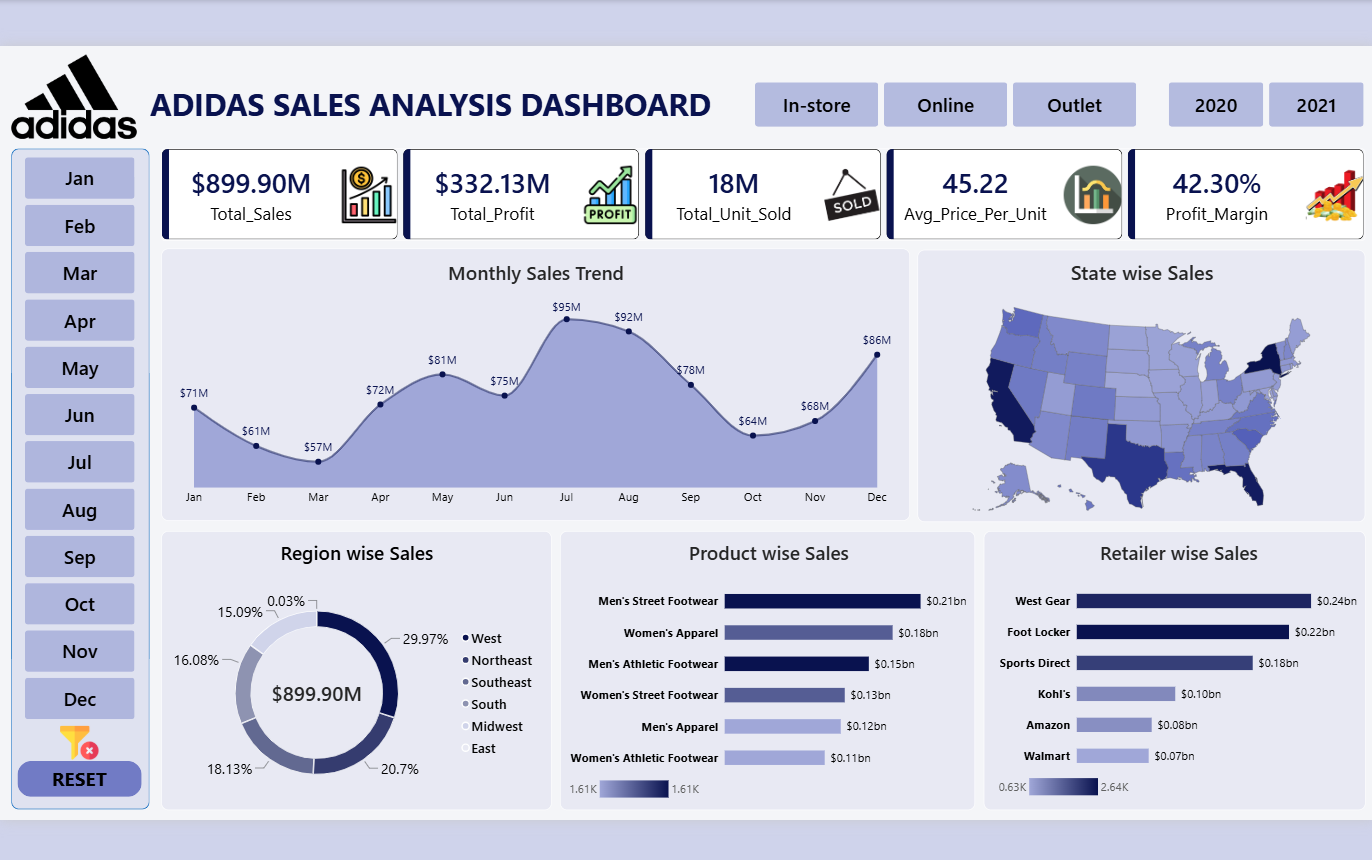

What the dashboard file says about the page in this screenshot:
{"tool":"powerbi","page":{"name":"Page 1","canvas":[1920,1080],"ordinal":0},"visuals":[{"type":"cardVisual","fields":{"Data":["Data Sales Adidas.Total_Sales","Data Sales Adidas.Total_Profit","Data Sales Adidas.Total_Unit_Sold","Data Sales Adidas.Avg_Price_Per_Unit","Data Sales Adidas.Profit_Margin"]},"box":[225,142.9,1680.4,128.6],"z":0},{"type":"image","box":[14.8,0,174.9,141.9],"z":1000},{"type":"textbox","box":[209.3,50.6,832,62.8],"z":2000},{"type":"shape","box":[14.8,143.5,193,922.2],"z":3000},{"type":"areaChart","title":"Monthly Sales Trend","fields":{"Category":["Data Sales Adidas.Month"],"Y":["Data Sales Adidas.Total_Sales"]},"box":[224.5,282.2,1044.5,380.4],"z":4000},{"type":"shapeMap","title":"State wise Sales","fields":{"Category":["Data Sales Adidas.State"],"Value":["Data Sales Adidas.Total_Sales"]},"box":[1279.9,283.7,625.1,380.4],"z":5000},{"type":"donutChart","title":"Region wise Sales","fields":{"Category":["Data Sales Adidas.Region"],"Y":["Data Sales Adidas.Total_Sales"]},"box":[224.4,676.4,544.4,389.3],"z":6000},{"type":"clusteredBarChart","title":"Product wise Sales","fields":{"Category":["Data Sales Adidas.Product"],"Y":["Data Sales Adidas.Total_Sales"]},"box":[782,676.4,579.1,389.3],"z":7000},{"type":"clusteredBarChart","title":"Retailer wise Sales","fields":{"Category":["Data Sales Adidas.Retailer"],"Y":["Data Sales Adidas.Total_Sales"]},"box":[1372.6,676.4,532.9,389.3],"z":8000},{"type":"advancedSlicerVisual","fields":{"Values":["Data Sales Adidas.Sales Method"]},"box":[1053.5,50.6,533.7,62.8],"z":9000},{"type":"advancedSlicerVisual","fields":{"Values":["Data Sales Adidas.Invoice Date.Variation.Date Hierarchy.Year"]},"box":[1630.8,50.6,273.8,62.8],"z":10000},{"type":"advancedSlicerVisual","fields":{"Values":["Data Sales Adidas.Month"]},"box":[34.6,155.1,153.4,790.2],"z":11000},{"type":"image","box":[66,945.3,89.3,53.6],"z":12000},{"type":"actionButton","box":[25,998.2,173.2,50],"z":13000}]}

Visuals, with their boxes on the page's 1920x1080 design canvas (x1, y1, x2, y2). These are canvas units, not pixel positions in the 1372x860 screenshot, which may show the page scaled, cropped or inside an application window:
cardVisual - Data Sales Adidas.Total_Sales x Data Sales Adidas.Total_Profit: rect(225, 143, 1905, 272)
image: rect(15, 0, 190, 142)
textbox: rect(209, 51, 1041, 113)
shape: rect(15, 144, 208, 1066)
"Monthly Sales Trend" areaChart: rect(224, 282, 1269, 663)
"State wise Sales" shapeMap: rect(1280, 284, 1905, 664)
"Region wise Sales" donutChart: rect(224, 676, 769, 1066)
"Product wise Sales" clusteredBarChart: rect(782, 676, 1361, 1066)
"Retailer wise Sales" clusteredBarChart: rect(1373, 676, 1906, 1066)
advancedSlicerVisual - Data Sales Adidas.Sales Method: rect(1054, 51, 1587, 113)
advancedSlicerVisual - Data Sales Adidas.Invoice Date.Variation.Date Hierarchy.Year: rect(1631, 51, 1905, 113)
advancedSlicerVisual - Data Sales Adidas.Month: rect(35, 155, 188, 945)
image: rect(66, 945, 155, 999)
actionButton: rect(25, 998, 198, 1048)
